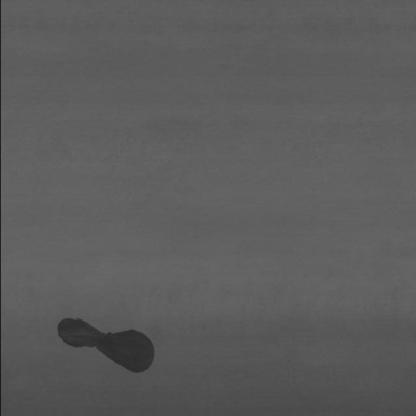oil_spot: (48, 317, 169, 374)
